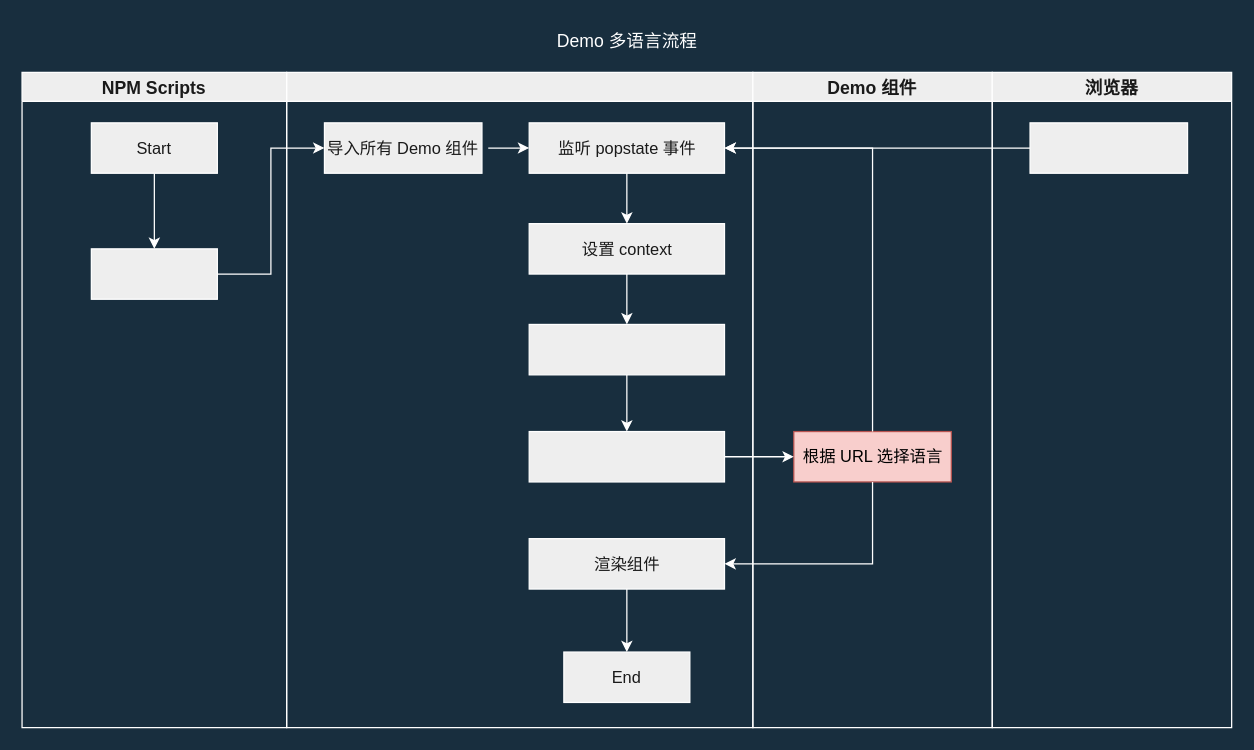
This 1254x750 diagram has some shape labels left out. The shapes that lost their labels are listed below. From the top down, each one's box as (x1, y1, x2, y2) in pixels, then its label:
(1029, 122, 1188, 173): 切换语言
(90, 248, 217, 299): vite 启动
(528, 323, 724, 375): 根据 URL 获取语言包的值
(285, 71, 753, 728): APP
(528, 430, 724, 482): 设置路由与组件关系
